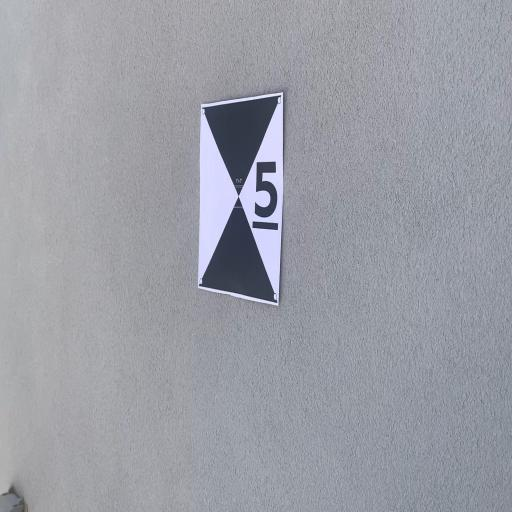target5: (197, 93, 285, 308)
